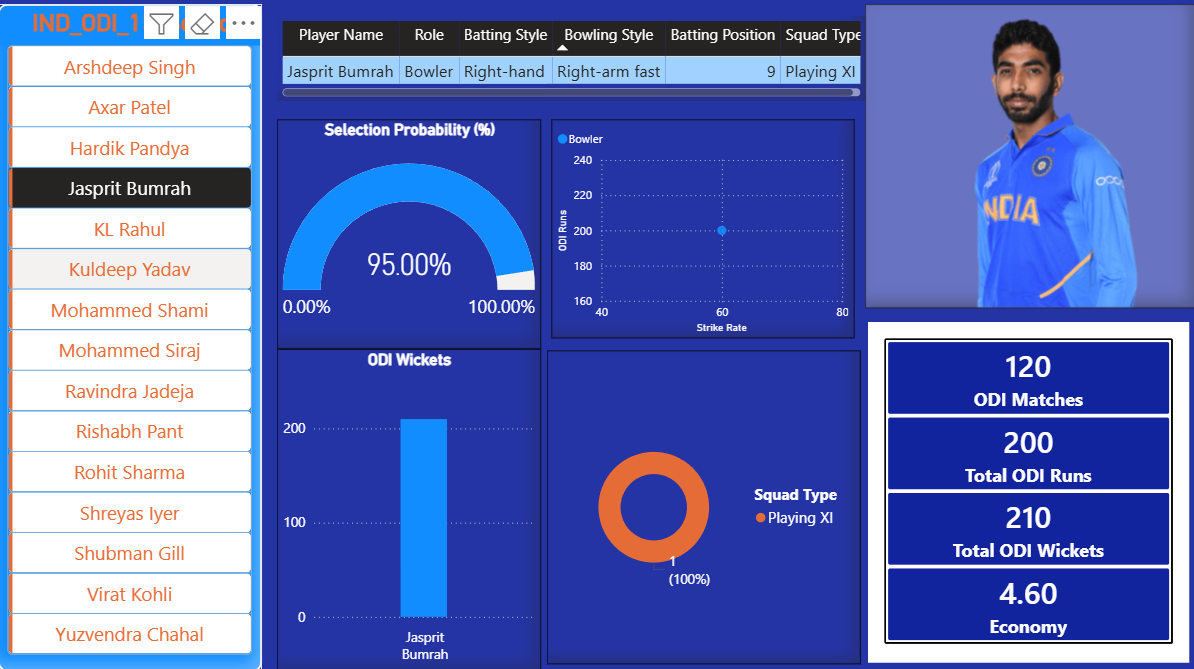

Layout of this report page (visuals, bound fields, positions):
{"tool":"powerbi","page":{"name":"Duplicate of Page 1","canvas":[1280,720],"ordinal":1},"visuals":[{"type":"advancedSlicerVisual","title":"IND_ODI_15_Squad","fields":{"Values":["India_Probable_15_ODI_Squad.Player Name"]},"box":[9.5,12.7,279.9,707.8],"z":0},{"type":"imageDB603108E3FF4EBFB8047F5653368E8C","fields":{"imageUrl":["India_Probable_15_ODI_Squad.Selected_Image"]},"box":[928.9,12.7,351.5,322.9],"z":1000},{"type":"cardVisual","fields":{"Data":["Sum(India_Probable_15_ODI_Squad.ODI Matches)","Sum(India_Probable_15_ODI_Squad.ODI Runs)","Sum(India_Probable_15_ODI_Squad.ODI Wickets)","Sum(India_Probable_15_ODI_Squad.Economy)"]},"box":[932.1,349.9,340.4,361.1],"z":2000},{"type":"gauge","title":"Selection Probability (%)","fields":{"Y":["India_Probable_15_ODI_Squad.selection probability %"]},"box":[305.4,135.2,279.9,243.4],"z":3000},{"type":"tableEx","fields":{"Values":["India_Probable_15_ODI_Squad.Player Name","India_Probable_15_ODI_Squad.Role","India_Probable_15_ODI_Squad.Batting Style","India_Probable_15_ODI_Squad.Bowling Style","India_Probable_15_ODI_Squad.Batting Position","India_Probable_15_ODI_Squad.Squad Type"]},"box":[305.4,25.4,623.5,90.7],"z":4000},{"type":"clusteredColumnChart","title":"ODI Wickets","fields":{"Category":["India_Probable_15_ODI_Squad.Player Name"],"Y":["Sum(India_Probable_15_ODI_Squad.ODI Wickets)"]},"box":[305,378,280,342],"z":5000},{"type":"donutChart","fields":{"Category":["India_Probable_15_ODI_Squad.Squad Type"],"Y":["CountNonNull(India_Probable_15_ODI_Squad.Player Name)"]},"box":[591.7,380.2,332.4,332.4],"z":5001},{"type":"scatterChart","fields":{"X":["Sum(India_Probable_15_ODI_Squad.Strike Rate)"],"Y":["Sum(India_Probable_15_ODI_Squad.ODI Runs)"],"Category":["India_Probable_15_ODI_Squad.Player Name"],"Series":["India_Probable_15_ODI_Squad.Role"]},"box":[596.5,135.2,321.3,232.2],"z":5002}]}

Visuals, with their boxes in screenshot pixels (x1, y1, x2, y2), scaled from the page's 1280x720 canvas onto the 1194x669 screenshot:
"IND_ODI_15_Squad" advancedSlicerVisual: 9, 12, 270, 668
imageDB603108E3FF4EBFB8047F5653368E8C - India_Probable_15_ODI_Squad.Selected_Image: 866, 12, 1193, 312
cardVisual - Sum(India_Probable_15_ODI_Squad.ODI Matches) x Sum(India_Probable_15_ODI_Squad.ODI Runs): 869, 325, 1187, 661
"Selection Probability (%)" gauge: 285, 126, 546, 352
tableEx - India_Probable_15_ODI_Squad.Player Name x India_Probable_15_ODI_Squad.Role: 285, 24, 866, 108
"ODI Wickets" clusteredColumnChart: 285, 351, 546, 668
donutChart - India_Probable_15_ODI_Squad.Squad Type x CountNonNull(India_Probable_15_ODI_Squad.Player Name): 552, 353, 862, 662
scatterChart - Sum(India_Probable_15_ODI_Squad.Strike Rate) x Sum(India_Probable_15_ODI_Squad.ODI Runs): 556, 126, 856, 341
